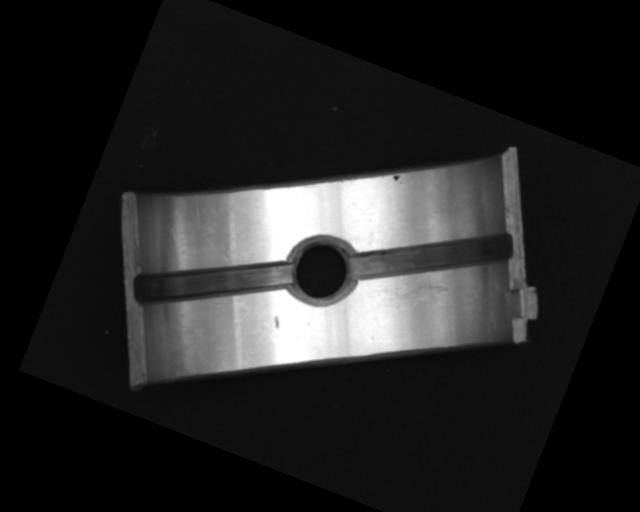blot: (391, 171, 403, 183)
bruise: (269, 314, 283, 330)
gap: (127, 214, 296, 352), (347, 189, 514, 326)
hole: (278, 228, 364, 318)
scratch: (386, 251, 466, 330)
